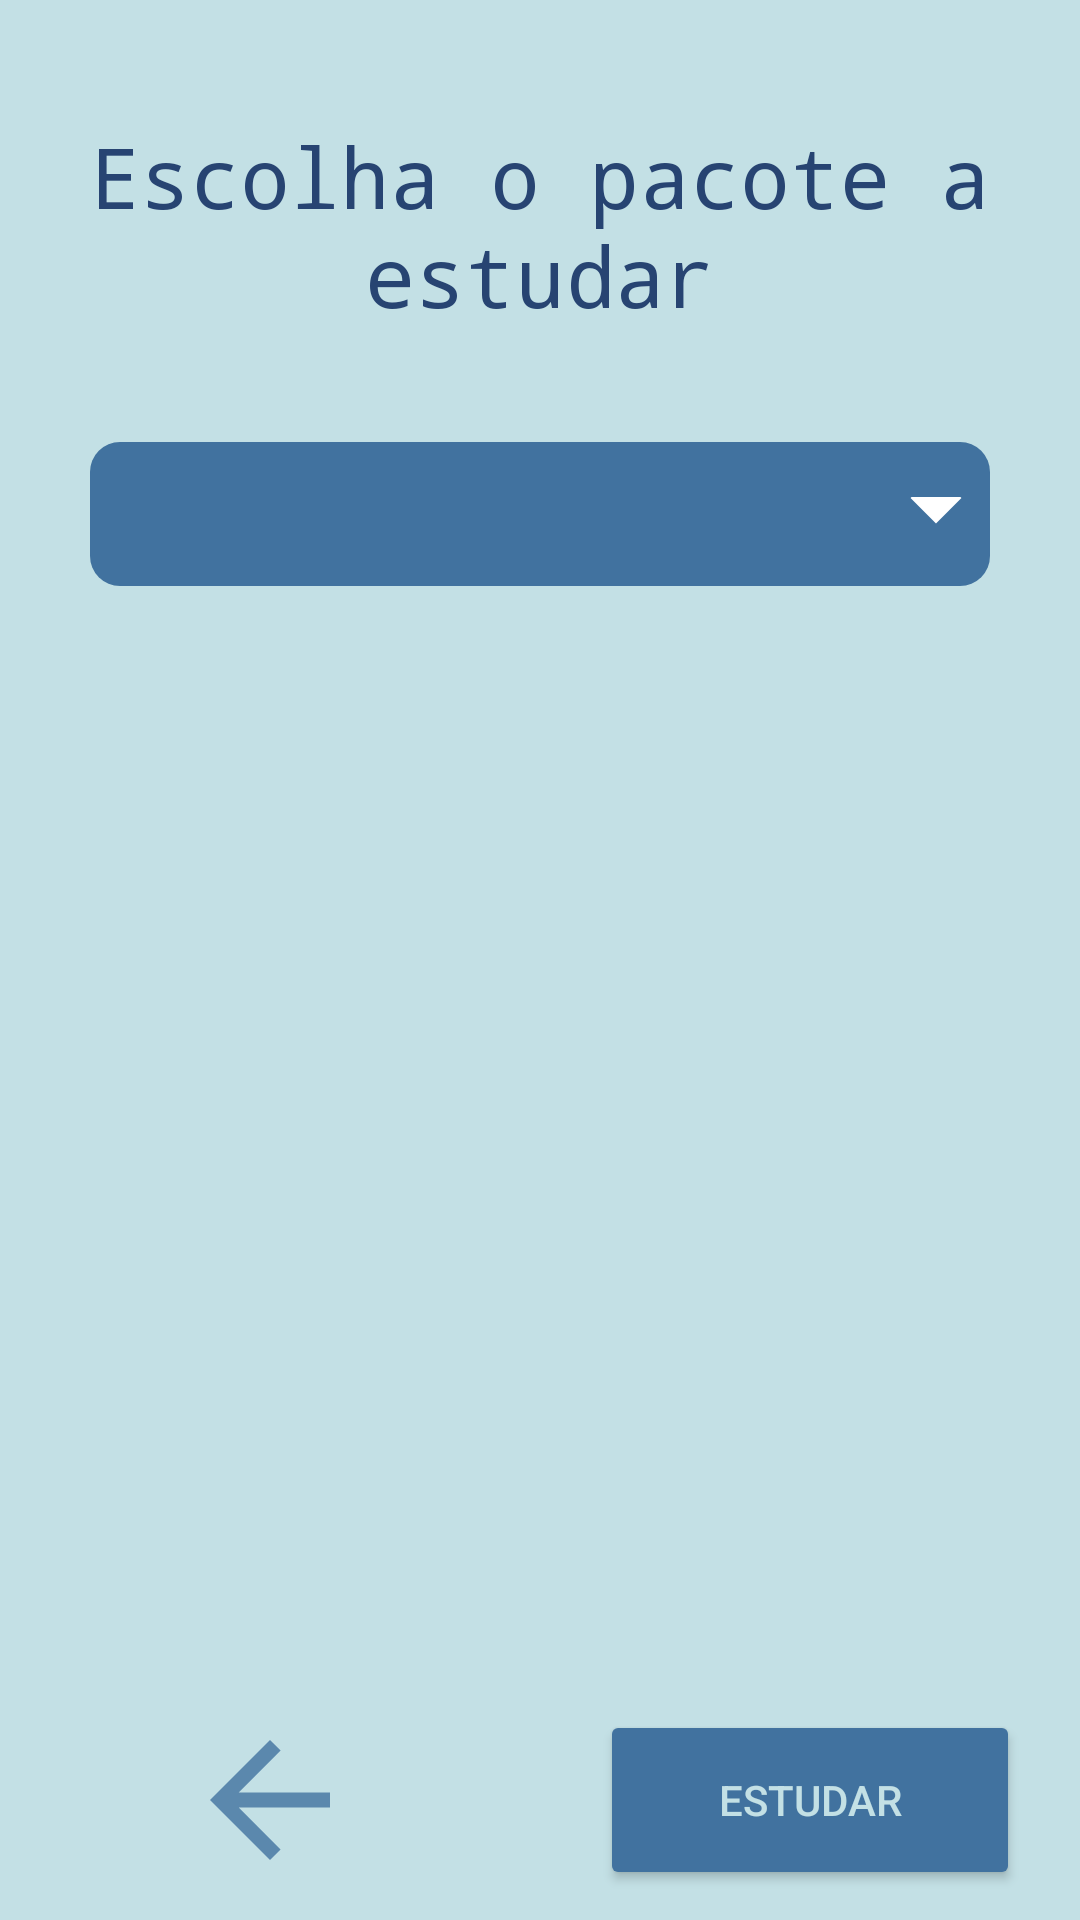

Icons on this 1080 × 1920 Android screen, each with its box as (x1, y1, x2, y2):
arrow back: (210, 1740, 330, 1860)
